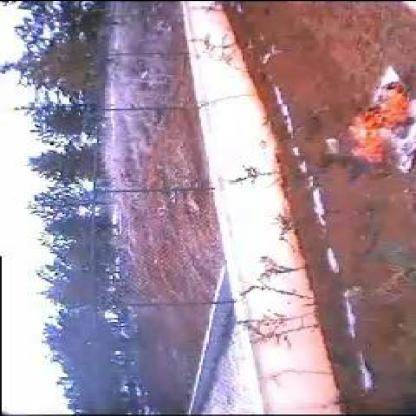-: (341, 152, 363, 170)
foggia-v2-map80-epoch100 - v1 4323: (352, 78, 406, 152)
